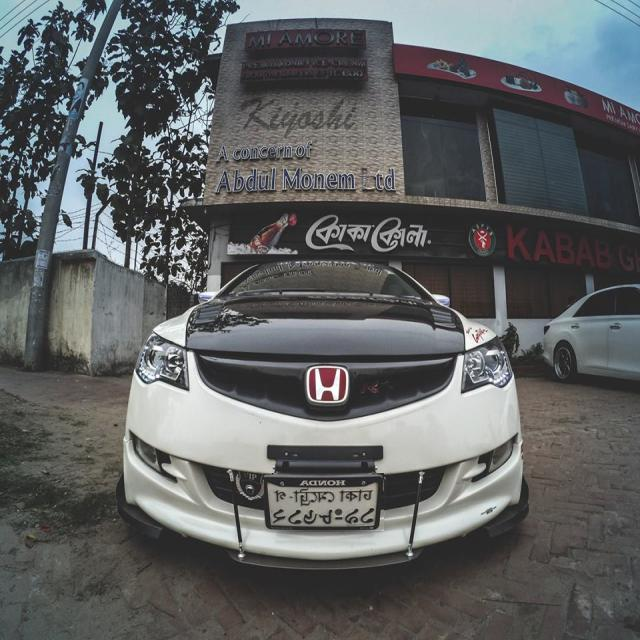numberplate: (264, 474, 384, 532)
